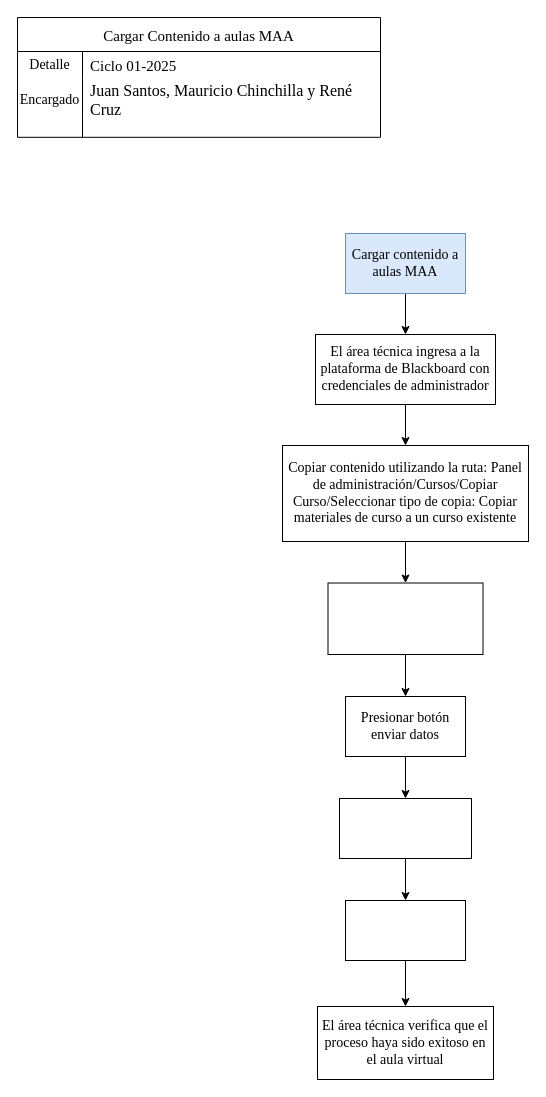
The diagram is 546 pixels wide and 1097 high, and some of its shapes have lost their labels. Each missing label, with the centre of its shape:
Esperar proceso de copiado: (x=405, y=930)
Ingresar ID del curso de origen e ID del curso de destino: (x=405, y=618)
Seleccionar datos necesarios en copia y finalizar: (x=405, y=828)
